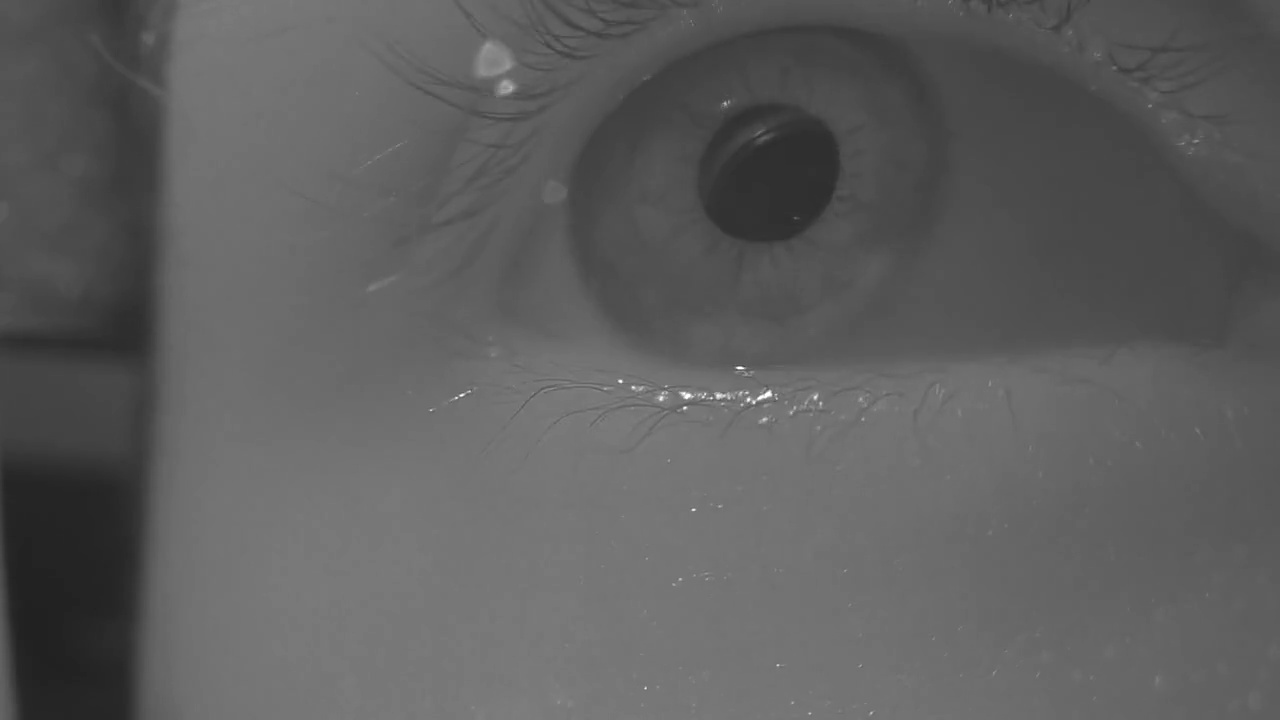pupil: (696, 103, 840, 243)
